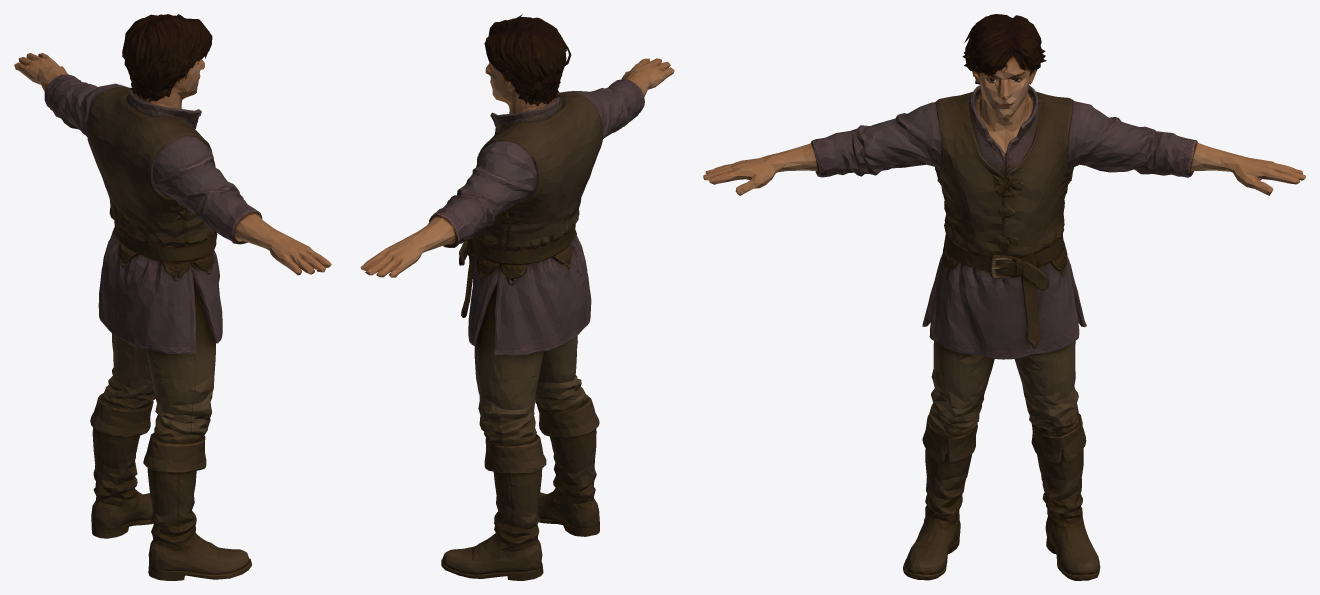
Rendered from tripo_convert_6ebaab08-3d7f-41b7-9f4c-1ab4b877ca19.obj.
3 views of the same model, side by side, from view 1: azimuth 30°, elevation 25°; view 2: azimuth 150°, elevation 25°; view 3: azimuth 270°, elevation 25° (orthographic). The views are drawn at different scales.
Visible parts, largest first — view 1: tripo_node_6ebaab08-3d7f-41b7-9f4c-1ab4b877ca19; view 2: tripo_node_6ebaab08-3d7f-41b7-9f4c-1ab4b877ca19; view 3: tripo_node_6ebaab08-3d7f-41b7-9f4c-1ab4b877ca19.
Boxes of the visible parts, bbox=[...] form: tripo_node_6ebaab08-3d7f-41b7-9f4c-1ab4b877ca19: bbox=[14, 14, 331, 580]; tripo_node_6ebaab08-3d7f-41b7-9f4c-1ab4b877ca19: bbox=[360, 14, 674, 580]; tripo_node_6ebaab08-3d7f-41b7-9f4c-1ab4b877ca19: bbox=[703, 14, 1305, 580].
Bounding box in the file's own units: 0.1992 × 0.9978 × 1.
1 material, 1 textured.
